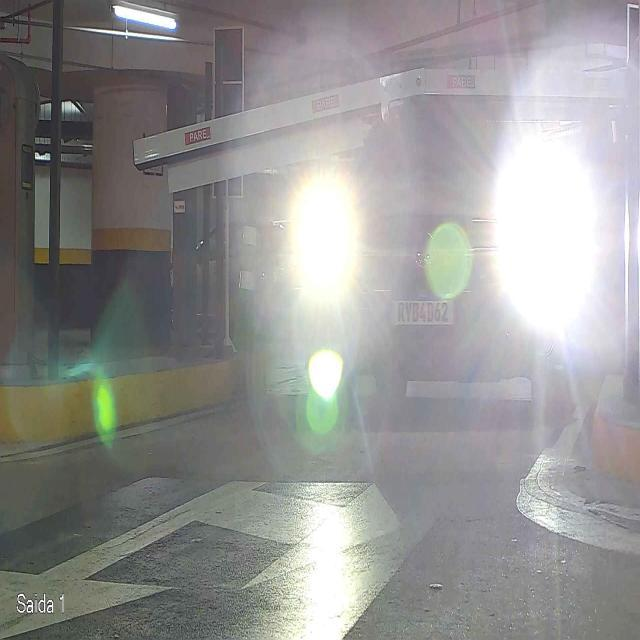mercosul_plate: (391, 292, 456, 330)
